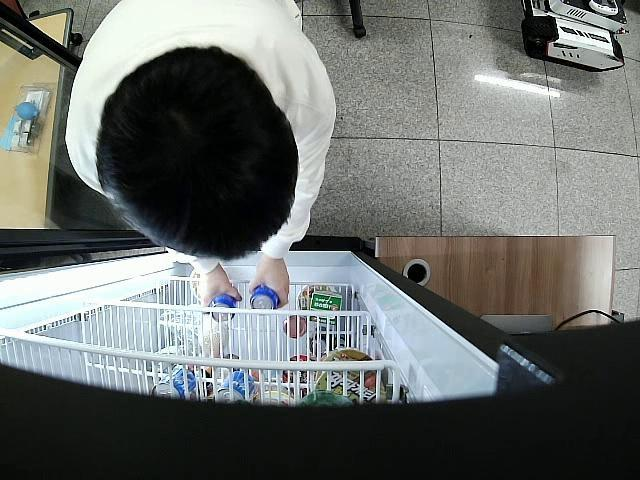13_pocariSweat: (248, 285, 280, 310), (210, 292, 236, 321)
